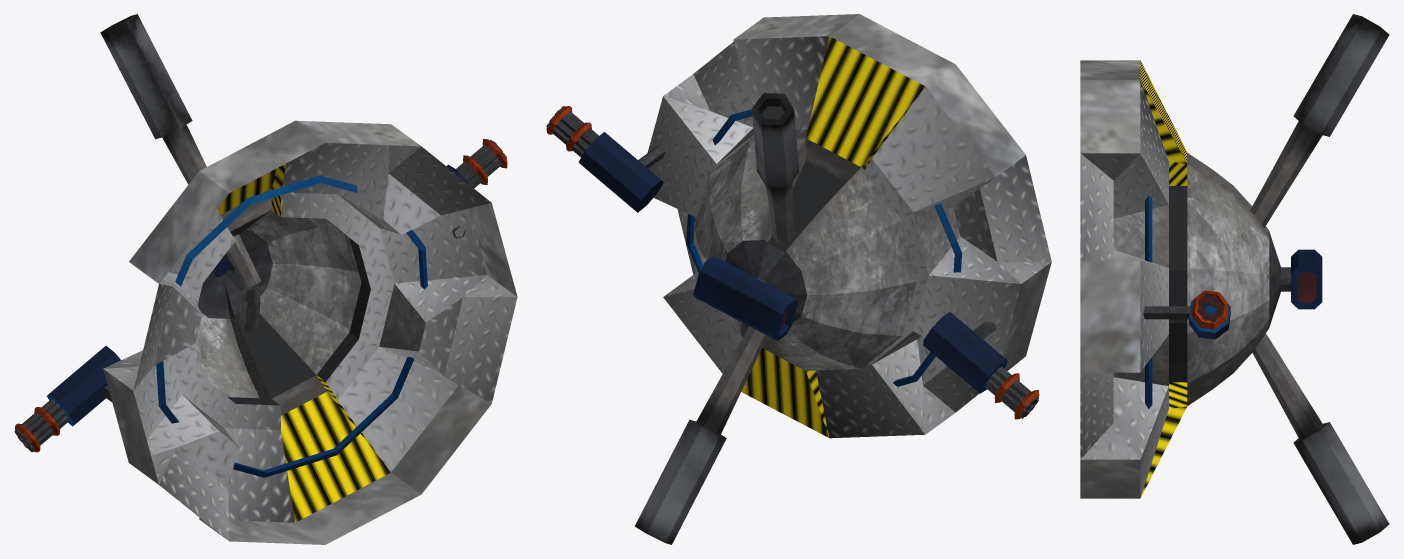
File: TorreNormal3BIDU.fbx
The picture shows the model from 3 angles, left to right: view 1: azimuth 30°, elevation 25°; view 2: azimuth 150°, elevation 25°; view 3: azimuth 270°, elevation 25°; orthographic projection.
Parts seen in each view (by area): view 1: Torre; view 2: Torre; view 3: Torre.
Part boxes in pixels (left/top/right/bottom): Torre: left=14, top=14, right=517, bottom=544; Torre: left=546, top=14, right=1051, bottom=544; Torre: left=1080, top=14, right=1389, bottom=544.
Size of the model in its own units: 4.68 by 4.35 by 2.59.
